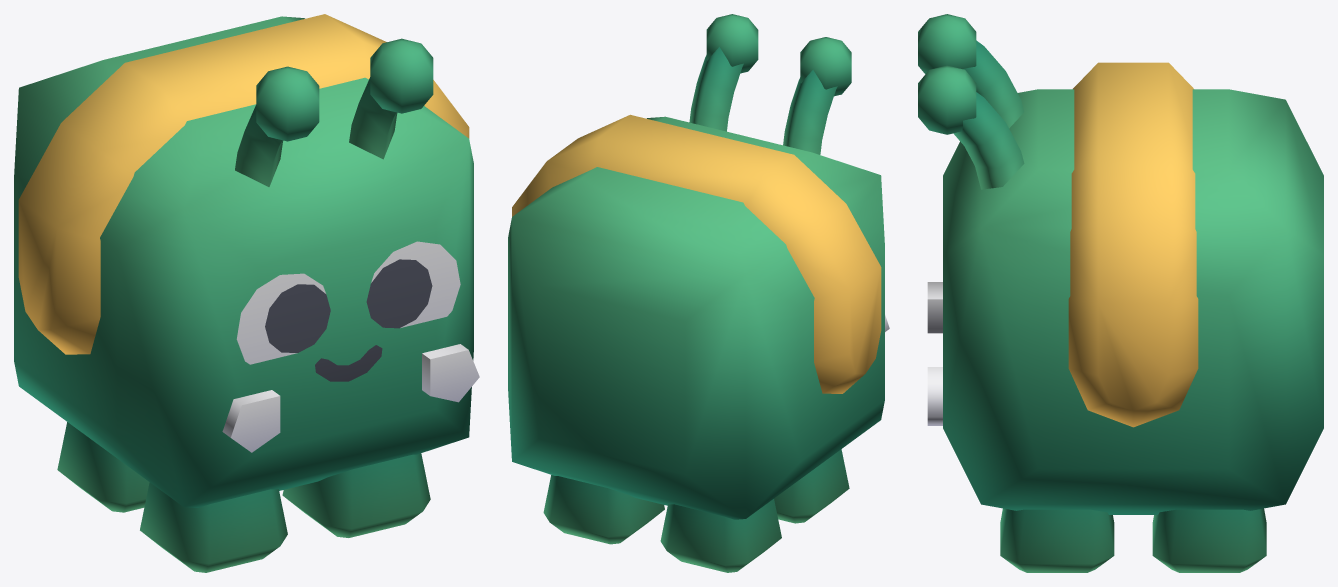
Rendered from cc0-caterpillar-lod0.glb.
3 views of the same model, side by side, from view 1: azimuth 30°, elevation 25°; view 2: azimuth 150°, elevation 25°; view 3: azimuth 270°, elevation 25° (orthographic). The views are drawn at different scales.
Visible parts, largest first — view 1: part_2, part_5, part_1, part_4; view 2: part_2, part_4, part_3, part_5; view 3: part_2, part_3, part_1.
Boxes of the visible parts, box(x1,y1,x2,y2) form: part_2: box(14, 14, 479, 507); part_5: box(140, 482, 287, 572); part_1: box(282, 453, 430, 537); part_4: box(57, 422, 149, 512); part_2: box(508, 14, 889, 519); part_4: box(660, 499, 781, 572); part_3: box(543, 475, 664, 544); part_5: box(774, 449, 849, 523); part_2: box(918, 14, 1323, 514); part_3: box(1152, 508, 1266, 572); part_1: box(1000, 508, 1114, 572).
Bounding box in the file's own units: 1.44 × 1.75 × 1.33.
Materials: 1 (1 with a texture image).
